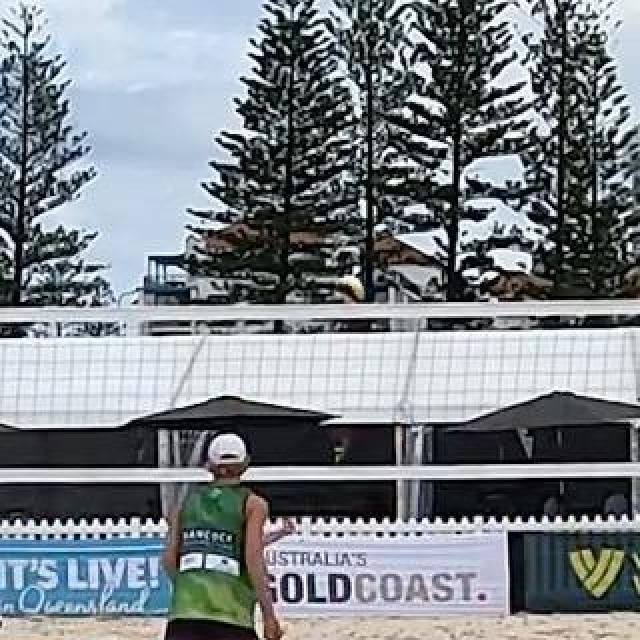volleyball: (337, 276, 365, 304)
